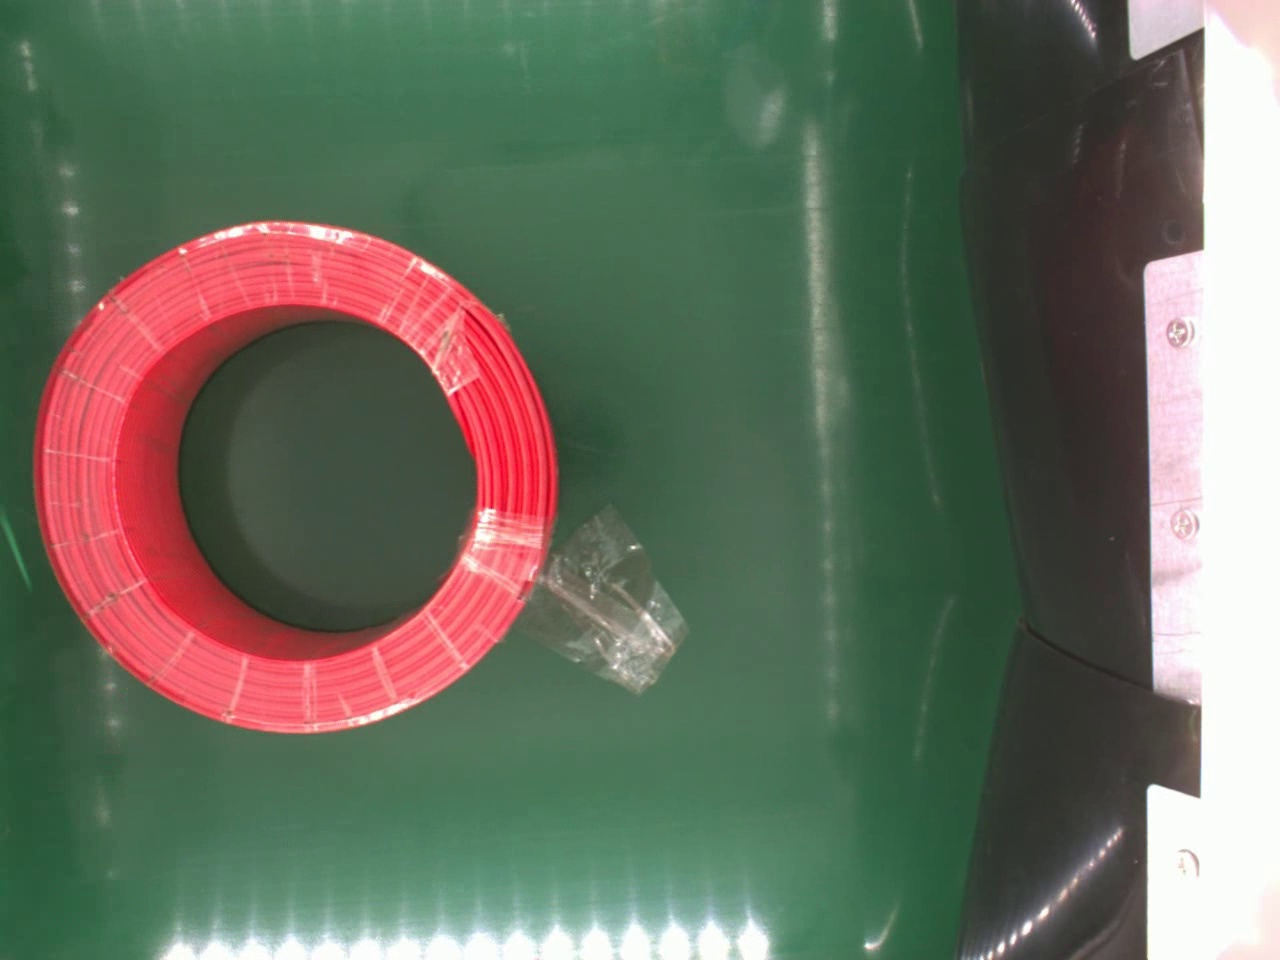red: (35, 215, 556, 734)
